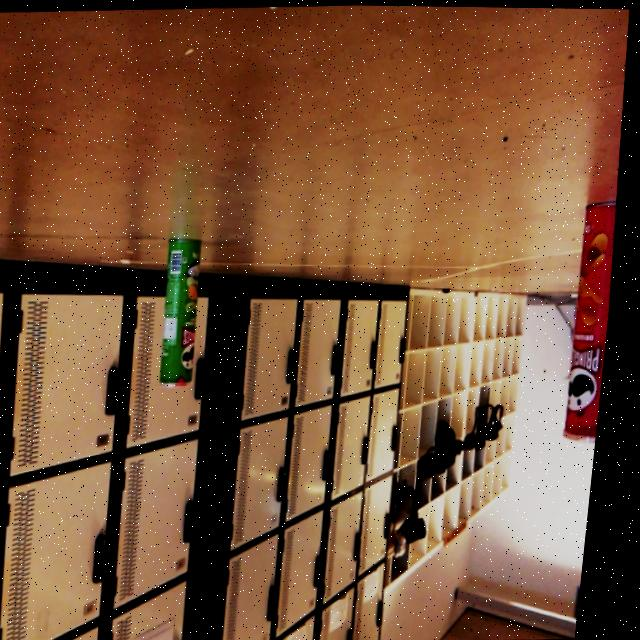greenpringles: (154, 210, 223, 404)
redpringles: (560, 185, 625, 455)
